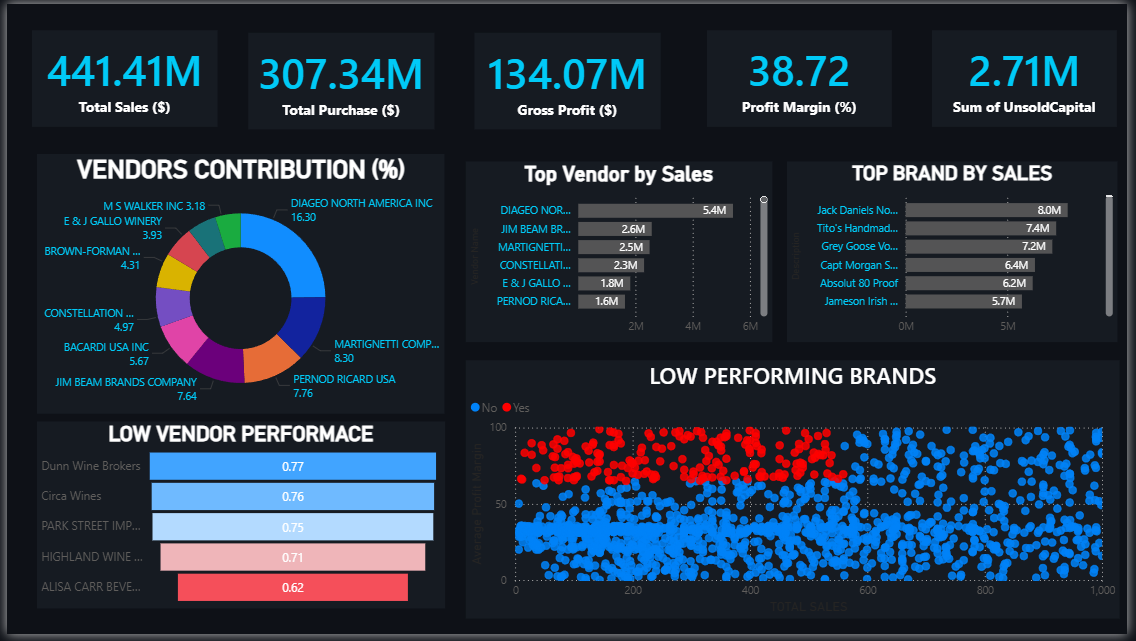

This screenshot's page, from the dashboard's own definition file:
{"tool":"powerbi","page":{"name":"Page 1","canvas":[1280,720],"ordinal":0},"visuals":[{"type":"card","fields":{"Values":["Sum(Power_BI.TotalSalesDollars)"]},"box":[28,30,212,110],"z":0},{"type":"card","fields":{"Values":["Sum(Power_BI.TotalPurchaseDollars)"]},"box":[276.2,32.5,212.5,110],"z":1000},{"type":"card","fields":{"Values":["Sum(Power_BI.GrossProfit)"]},"box":[533.8,32.5,212.5,110],"z":2000},{"type":"card","fields":{"Values":["Avg(Power_BI.ProfitMargin)"]},"box":[800,30,211.2,110],"z":3000},{"type":"card","fields":{"Values":["Sum(Power_BI.UnsoldCapital)"]},"box":[1057.5,30,211.2,110],"z":4000},{"type":"donutChart","title":"VENDORS CONTRIBUTION (%) ","fields":{"Y":["Sum(PurchaseContribution.PurchaseContribution%)"],"Category":["PurchaseContribution.VendorName"]},"box":[34.3,171.4,465.7,297.1],"z":5000},{"type":"barChart","title":"Top Vendor by Sales  ","fields":{"Category":["Power_BI.VendorName"],"Y":["Sum(Power_BI.TotalPurchaseQuantity)"]},"box":[523.8,180,350,206.2],"z":6000},{"type":"barChart","title":"TOP BRAND BY SALES ","fields":{"Category":["Power_BI.Description"],"Y":["Sum(Power_BI.TotalSalesDollars)"]},"box":[891.2,180,377.5,206.2],"z":7000},{"type":"funnel","title":"LOW VENDOR PERFORMACE","fields":{"Category":["LowTurnoverVendor.VendorName"],"Y":["Avg(LowTurnoverVendor.AvgStockTurnOver)"]},"box":[33.8,477.5,466.2,213.8],"z":8000},{"type":"scatterChart","title":"LOW PERFORMING BRANDS","fields":{"Category":["BrandPerformance.Description"],"X":["Sum(BrandPerformance.TotalSales)"],"Y":["Avg(BrandPerformance.AvgProfitMargin)"],"Series":["BrandPerformance.TargetBrand"]},"box":[523.8,407.5,747.5,295],"z":9000}]}

Visuals, with their boxes in screenshot pixels (x1, y1, x2, y2), scaled from the page's 1280x720 canvas onto the 1136x641 screenshot:
card - Sum(Power_BI.TotalSalesDollars): 25, 27, 213, 125
card - Sum(Power_BI.TotalPurchaseDollars): 245, 29, 434, 127
card - Sum(Power_BI.GrossProfit): 474, 29, 662, 127
card - Avg(Power_BI.ProfitMargin): 710, 27, 897, 125
card - Sum(Power_BI.UnsoldCapital): 939, 27, 1126, 125
"VENDORS CONTRIBUTION (%) " donutChart: 30, 153, 444, 417
"Top Vendor by Sales  " barChart: 465, 160, 775, 344
"TOP BRAND BY SALES " barChart: 791, 160, 1126, 344
"LOW VENDOR PERFORMACE" funnel: 30, 425, 444, 615
"LOW PERFORMING BRANDS" scatterChart: 465, 363, 1128, 625
